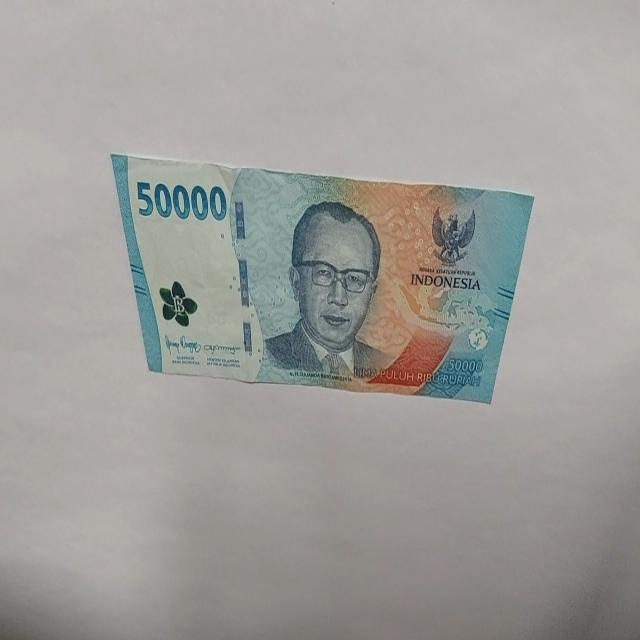lima puluh ribu rupiah: (110, 150, 534, 403), (261, 198, 388, 382), (134, 177, 228, 223)
